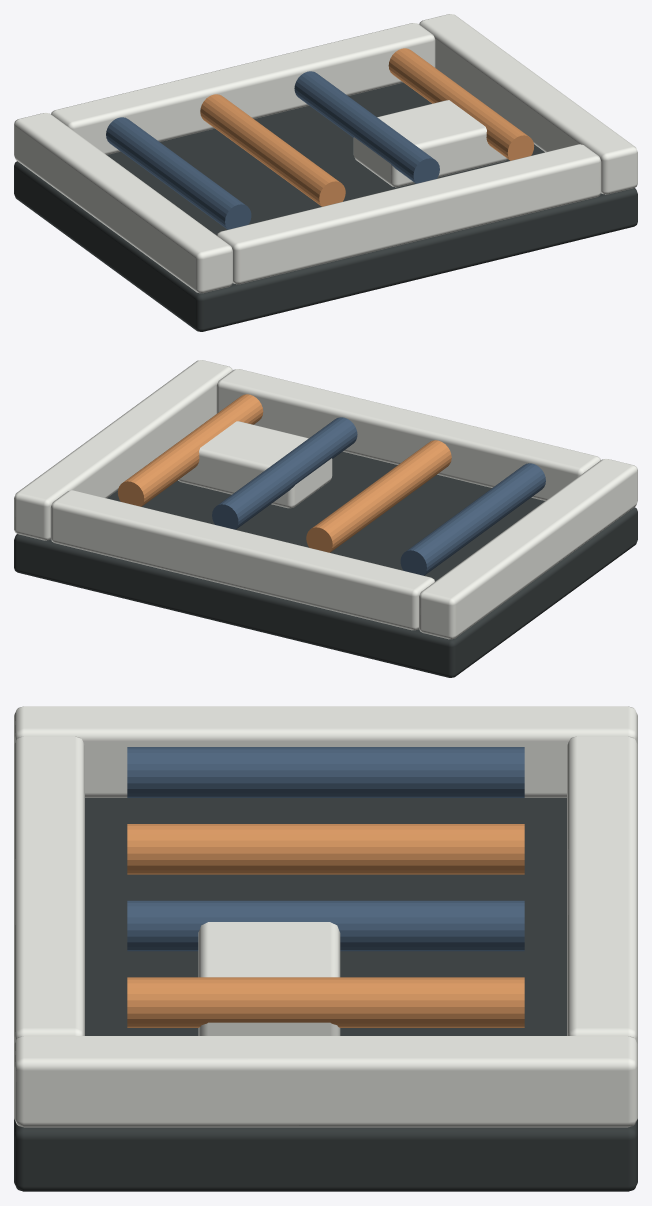
The model's file is spacecraft-parachute-packing-hall-spacecraft-parachute-6c9c2404__32102.glb.
3 views of the same model, one above another, from view 1: azimuth 30°, elevation 25°; view 2: azimuth 150°, elevation 25°; view 3: azimuth 270°, elevation 25° (orthographic). The views are drawn at different scales.
Parts seen in each view (by area): view 1: spacecraft-parachute-packing-hall-fabric-flaw-marking-tray; view 2: spacecraft-parachute-packing-hall-fabric-flaw-marking-tray; view 3: spacecraft-parachute-packing-hall-fabric-flaw-marking-tray.
Part boxes in pixels (box(x1,y1,x2,y2)): spacecraft-parachute-packing-hall-fabric-flaw-marking-tray: box(14, 14, 637, 331); spacecraft-parachute-packing-hall-fabric-flaw-marking-tray: box(14, 360, 637, 677); spacecraft-parachute-packing-hall-fabric-flaw-marking-tray: box(14, 706, 637, 1191).
Bounding box in the file's own units: 0.3 × 0.057 × 0.22.
